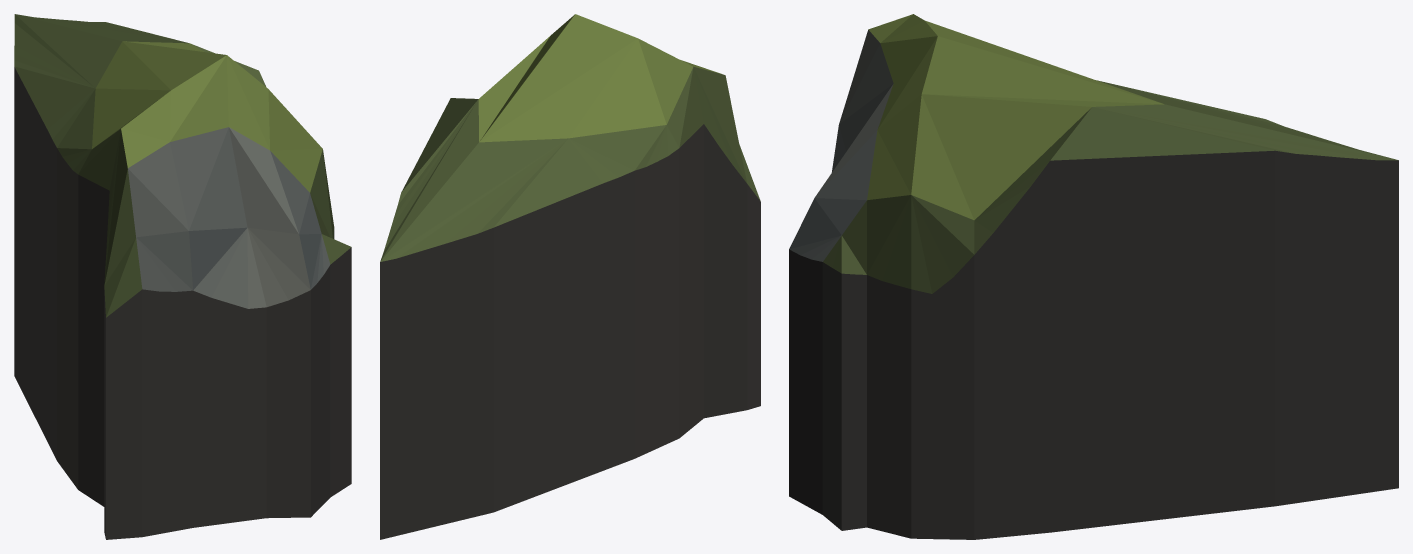
The model's file is cliff_sections_10c_central_wall.glb.
The picture shows the model from 3 angles, left to right: view 1: azimuth 30°, elevation 25°; view 2: azimuth 150°, elevation 25°; view 3: azimuth 270°, elevation 25°; orthographic projection. The views are drawn at different scales.
Visible parts, largest first — view 1: Front columns study; view 2: Front columns study; view 3: Front columns study.
Part boxes in pixels (<box>): Front columns study: <box>14,14,351,539</box>; Front columns study: <box>380,14,760,539</box>; Front columns study: <box>789,14,1398,539</box>.
Size of the model in its own units: 51.4 by 79 by 96.56.
